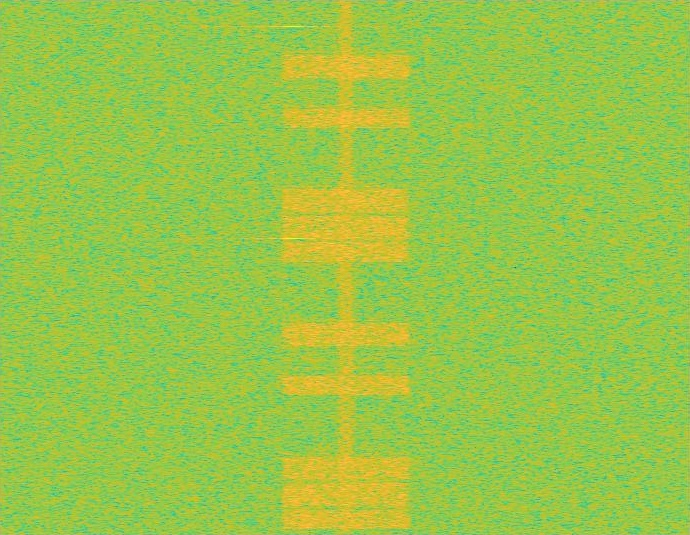DSSS: (337, 0, 355, 534)
LTE: (277, 0, 415, 534)
Radar: (286, 0, 300, 534)
